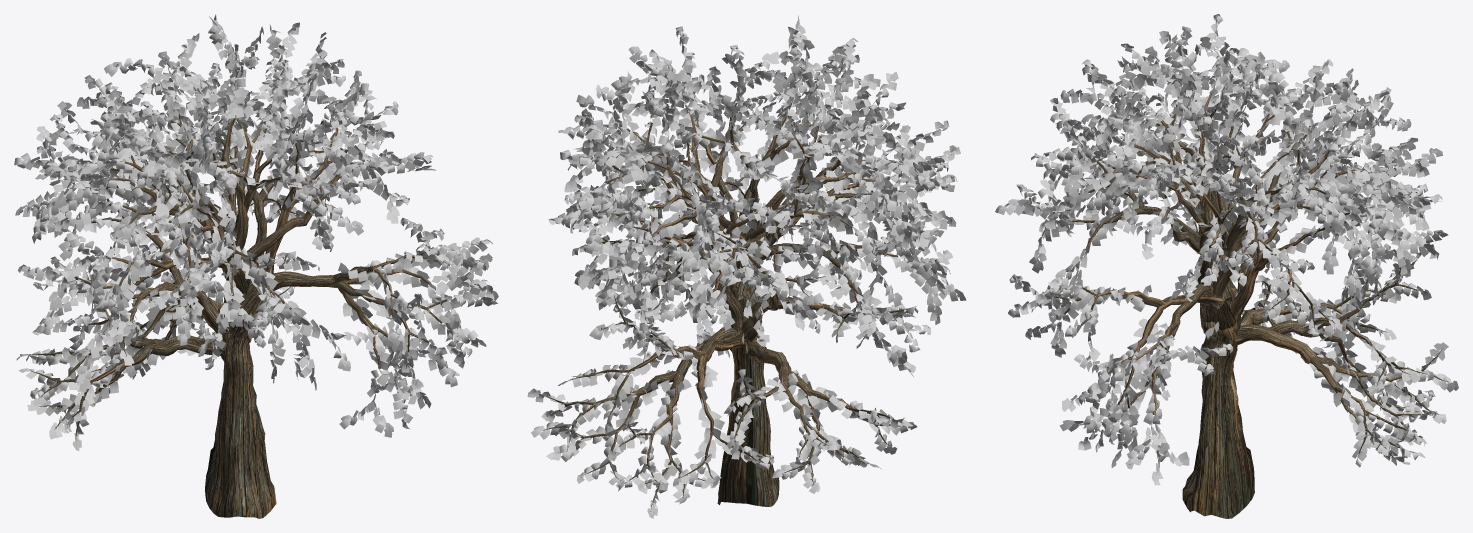
Rendered from Tree_2.fbx.
3 renders of one model, left to right at view 1: azimuth 30°, elevation 25°; view 2: azimuth 150°, elevation 25°; view 3: azimuth 270°, elevation 25°, orthographic.
Parts seen in each view (by area): view 1: oakWhite1Leaf, oakWhite1Main; view 2: oakWhite1Leaf, oakWhite1Main; view 3: oakWhite1Leaf, oakWhite1Main.
Part boxes in pixels (<box>): oakWhite1Leaf: <box>14,14,498,450</box>; oakWhite1Main: <box>27,104,447,518</box>; oakWhite1Leaf: <box>527,15,966,518</box>; oakWhite1Main: <box>539,101,912,508</box>; oakWhite1Leaf: <box>995,14,1458,485</box>; oakWhite1Main: <box>1054,94,1451,518</box>.
Size of the model in its own units: 5.08 by 5.23 by 4.82.
